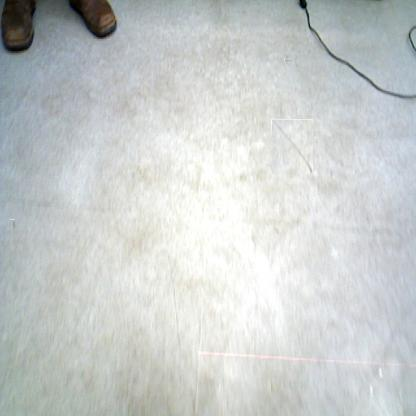mark: (271, 119, 313, 174), (10, 219, 16, 230), (285, 56, 292, 63)
